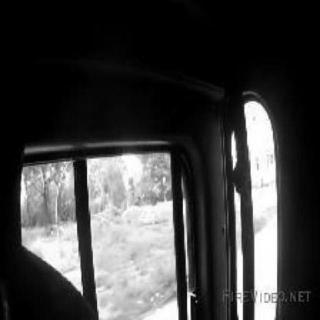other: (110, 150, 138, 188)
